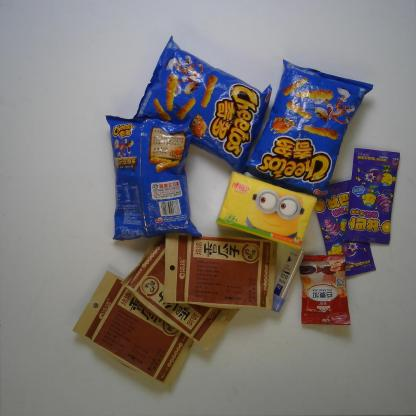Candy: (312, 175, 378, 277), (346, 147, 400, 243)
Dried Food: (118, 235, 248, 350), (69, 270, 194, 389), (161, 231, 277, 312)
Instant Drink: (295, 252, 351, 326)
Puffed Food: (242, 52, 372, 196), (139, 34, 271, 168), (102, 112, 201, 240)
Stationery: (266, 248, 308, 311)
Tissue: (219, 171, 317, 245)
